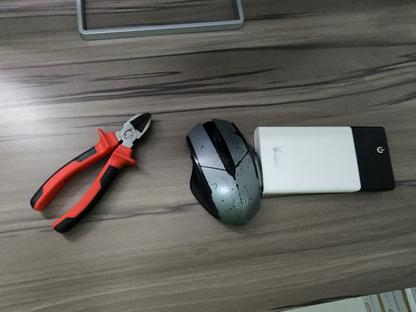mouse: (185, 117, 263, 227)
